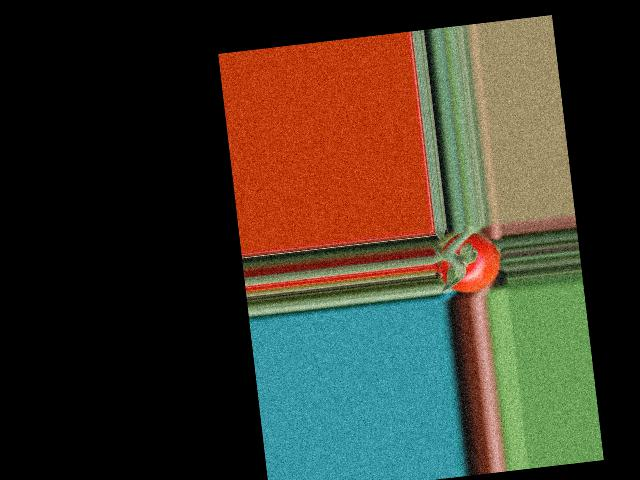tomato: (432, 229, 502, 296)
